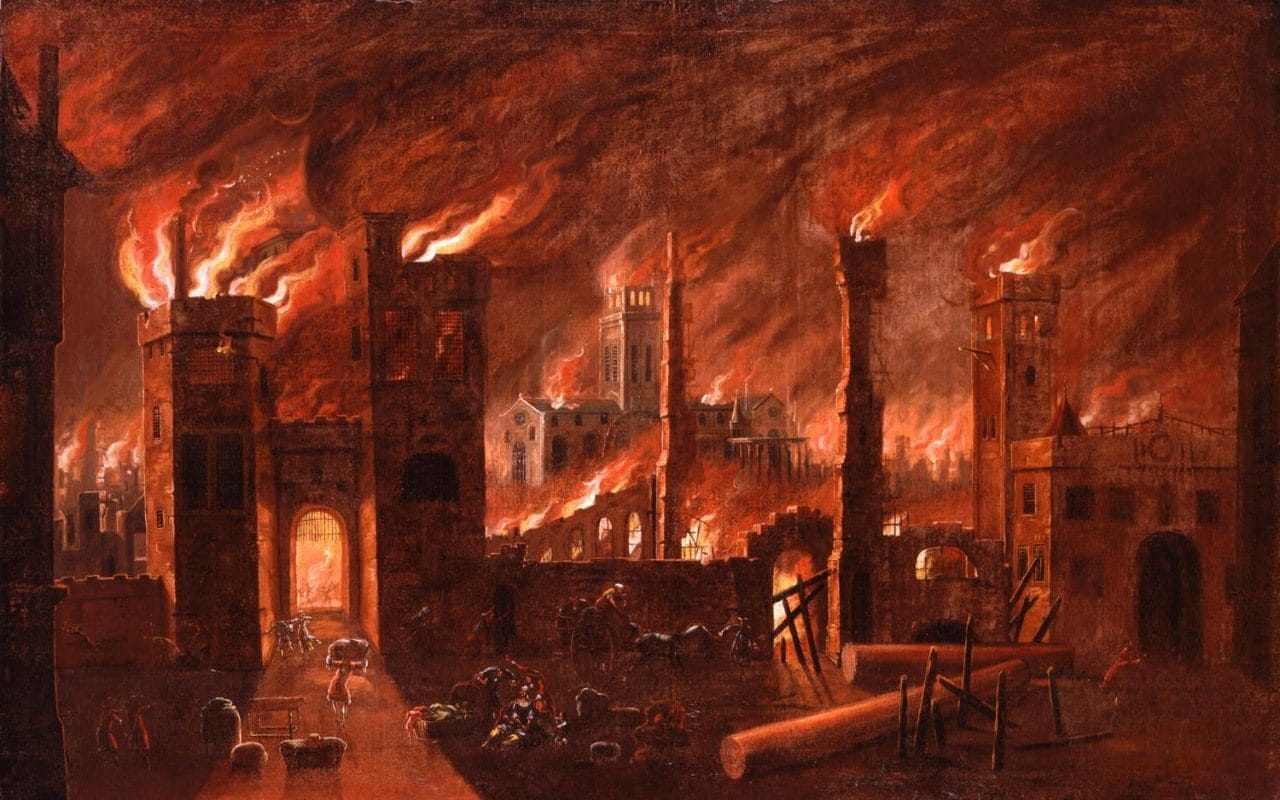Fire: (108, 219, 168, 294)
